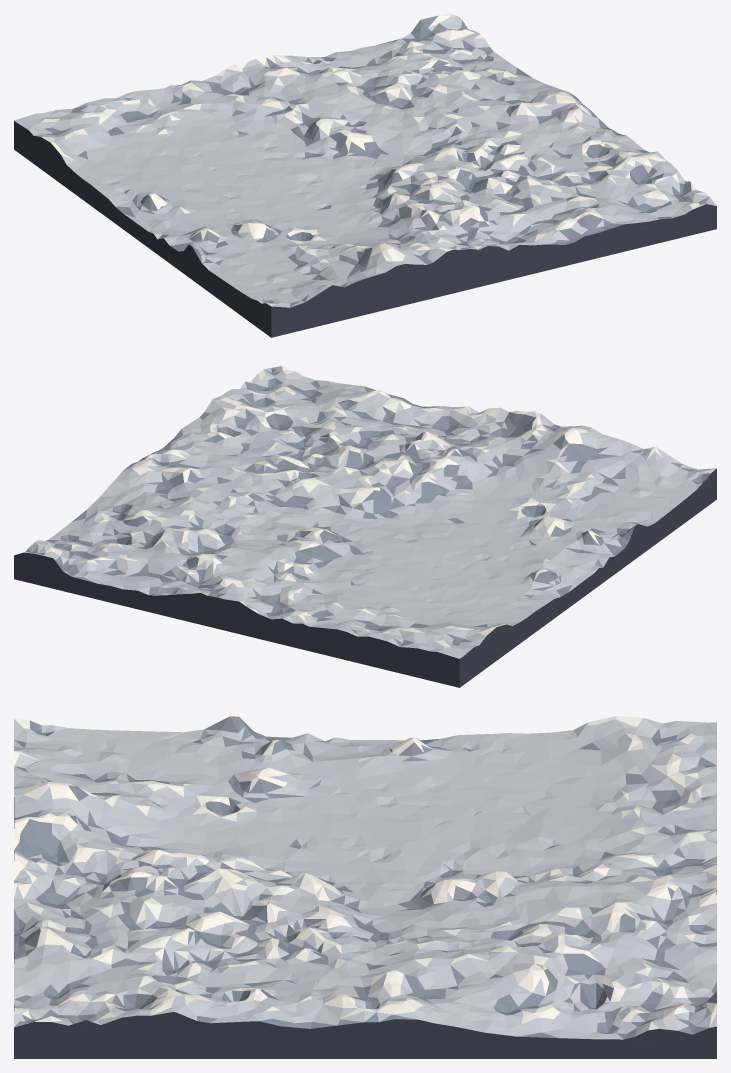
Rendered from Scene_MoonSurface.glb.
The picture shows the model from 3 angles, top to bottom: view 1: azimuth 30°, elevation 25°; view 2: azimuth 150°, elevation 25°; view 3: azimuth 270°, elevation 25°; orthographic projection. The views are drawn at different scales.
Visible parts, largest first — view 1: Scene_MoonSurface.Ground; view 2: Scene_MoonSurface.Ground; view 3: Scene_MoonSurface.Ground.
Part boxes in pixels (x1,y1,x2,y2): Scene_MoonSurface.Ground: (14,14,716,337); Scene_MoonSurface.Ground: (14,366,716,687); Scene_MoonSurface.Ground: (14,716,716,1058).
Bounding box in the file's own units: 20 × 2.07 × 20.
1 material, 1 textured.
